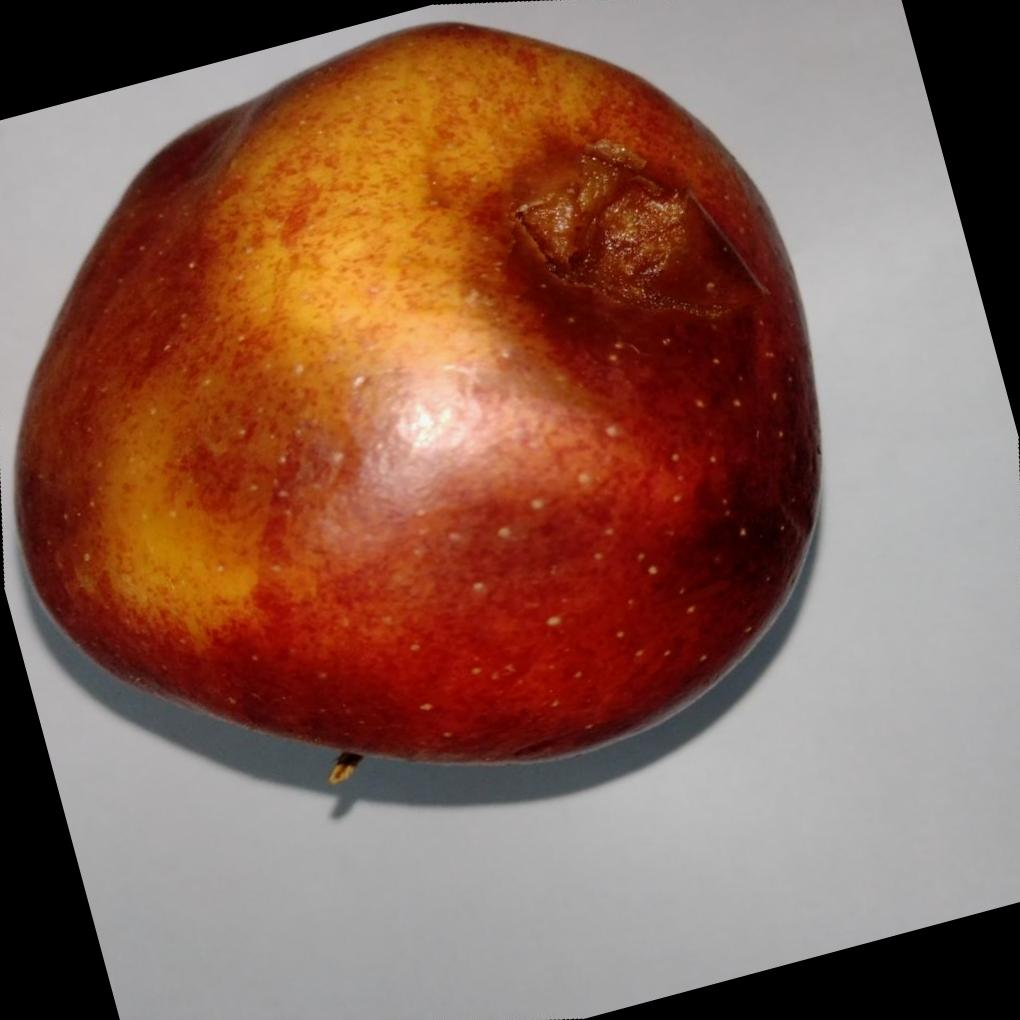FreshOrange: (10, 18, 823, 780)
